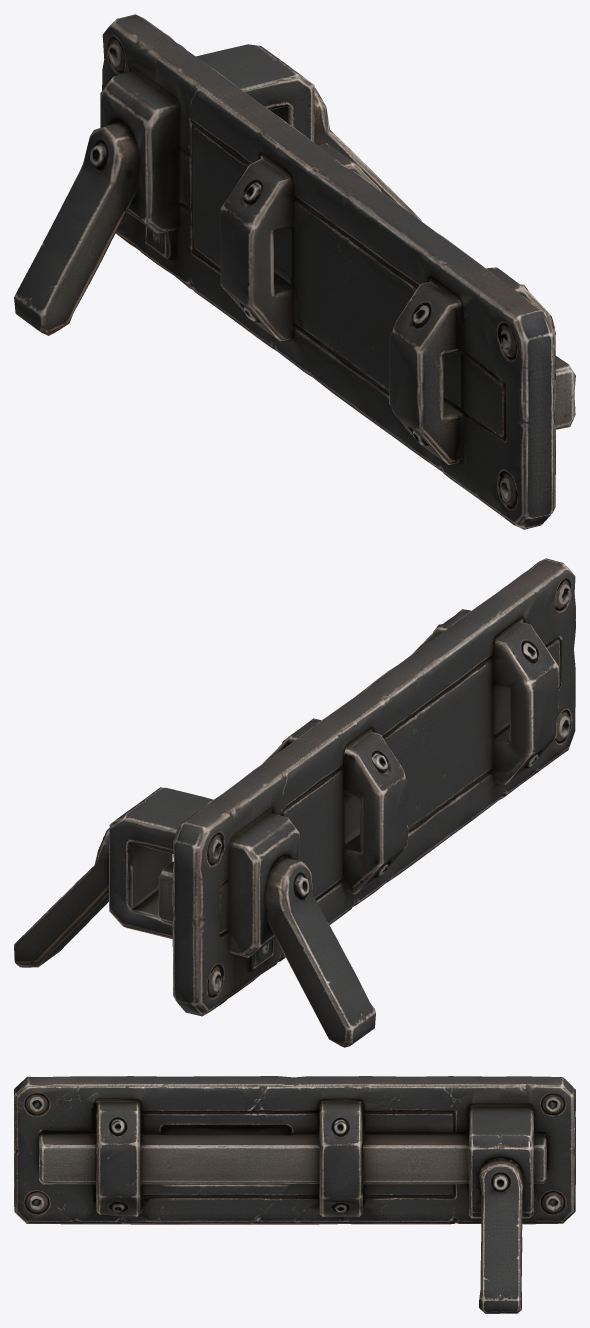
File: PROP-DOOR-LOCK.glb
3 views of the same model, one above another, from view 1: azimuth 30°, elevation 25°; view 2: azimuth 150°, elevation 25°; view 3: azimuth 270°, elevation 25° (orthographic). The views are drawn at different scales.
Visible parts, largest first — view 1: tripo_node_6caff16f-c506-44e0-afb8-db653121a67d; view 2: tripo_node_6caff16f-c506-44e0-afb8-db653121a67d; view 3: tripo_node_6caff16f-c506-44e0-afb8-db653121a67d.
Part boxes in pixels (left/top/right/bottom): tripo_node_6caff16f-c506-44e0-afb8-db653121a67d: left=14, top=14, right=575, bottom=529; tripo_node_6caff16f-c506-44e0-afb8-db653121a67d: left=14, top=558, right=575, bottom=1047; tripo_node_6caff16f-c506-44e0-afb8-db653121a67d: left=14, top=1076, right=575, bottom=1313.
Bounding box in the file's own units: 0.519 × 0.3139 × 1.
1 material, 1 textured.
